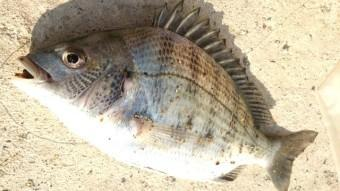fish: (9, 0, 319, 190)
